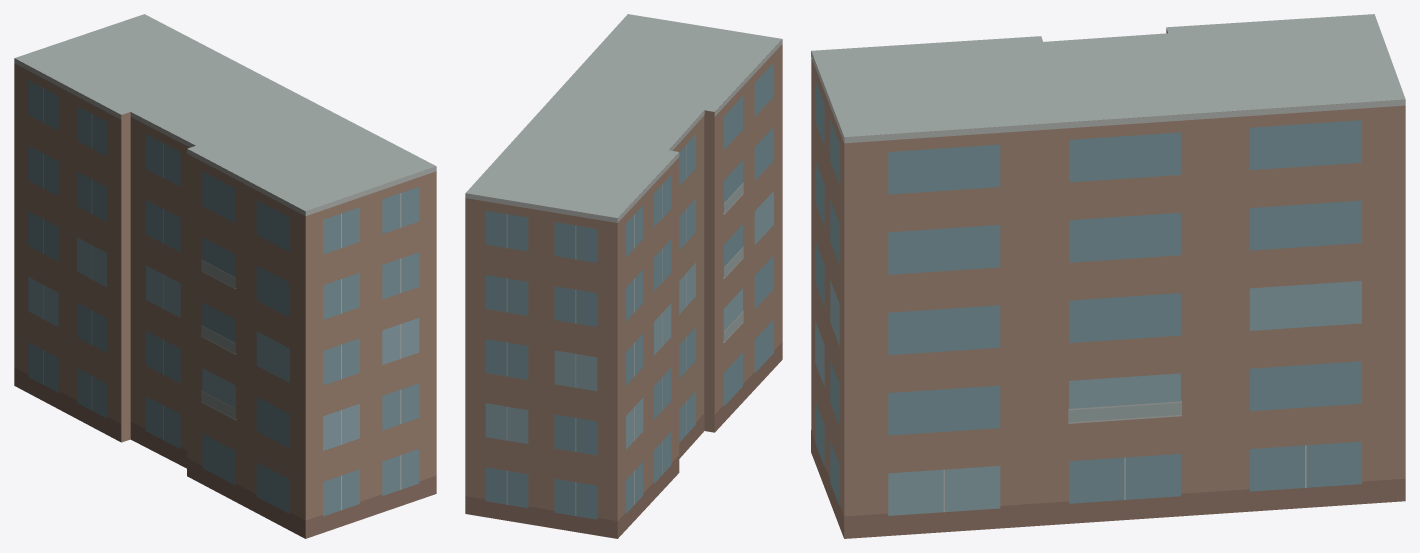
The model's file is survey-upis-32612617.glb.
3 views of the same model, side by side, from view 1: azimuth 30°, elevation 25°; view 2: azimuth 150°, elevation 25°; view 3: azimuth 270°, elevation 25° (orthographic). The views are drawn at different scales.
Parts seen in each view (by area): view 1: survey-upis-32612617.tmp; view 2: survey-upis-32612617.tmp; view 3: survey-upis-32612617.tmp.
Boxes of the visible parts, <box> form: survey-upis-32612617.tmp: <box>14,14,436,538</box>; survey-upis-32612617.tmp: <box>465,14,782,538</box>; survey-upis-32612617.tmp: <box>811,14,1405,538</box>.
Size of the model in its own units: 10.53 by 16 by 21.47.
